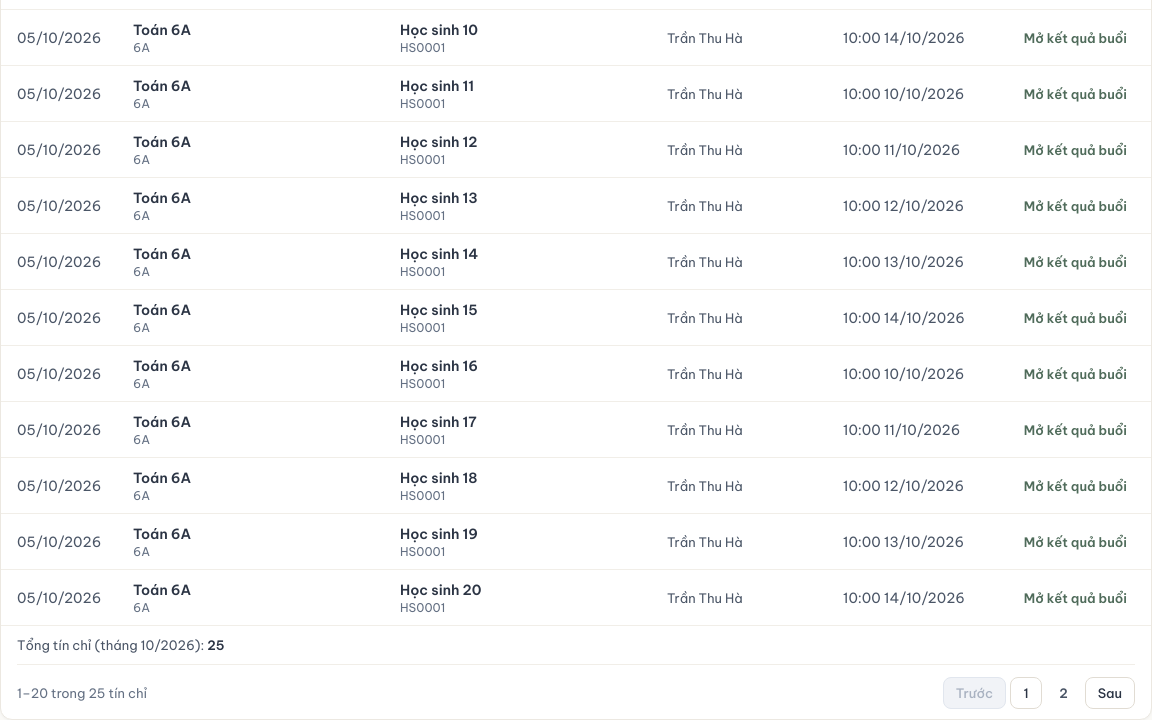
Scenario: GradingCreditListPage pagination › shows 20 rows per page and returns to page 1 when a filter changes
(page scrolled)
Check: the navigation bar named "Phân trang tín chỉ chấm bài" shows "1–20 trong 25 tín chỉ", box [17,677,1135,709]
Click the button "Sau" at coordinates (1110, 693), box [1085,677,1135,709]
(page scrolled)
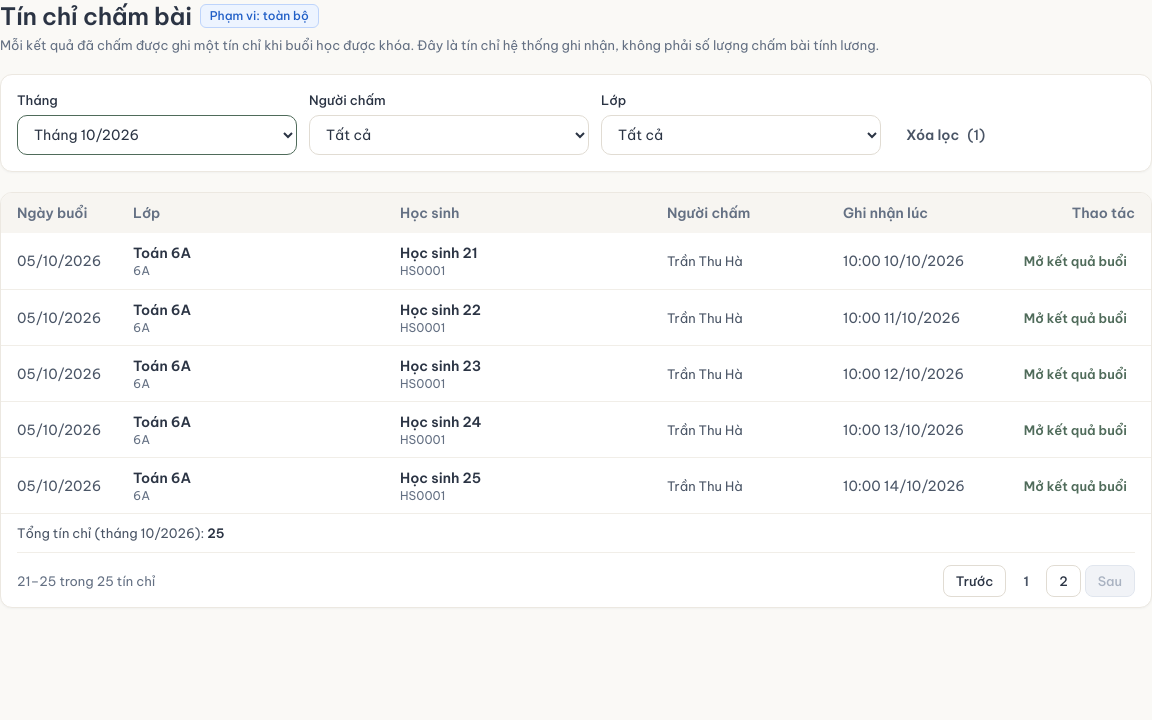
Check: the navigation bar named "Phân trang tín chỉ chấm bài" shows "21–25 trong 25 tín chỉ", box [17,565,1135,597]
Select "Tất cả" in the dropdown with test id "desktop-credit-month" at coordinates (157, 135), box [17,115,297,155]
(page scrolled)
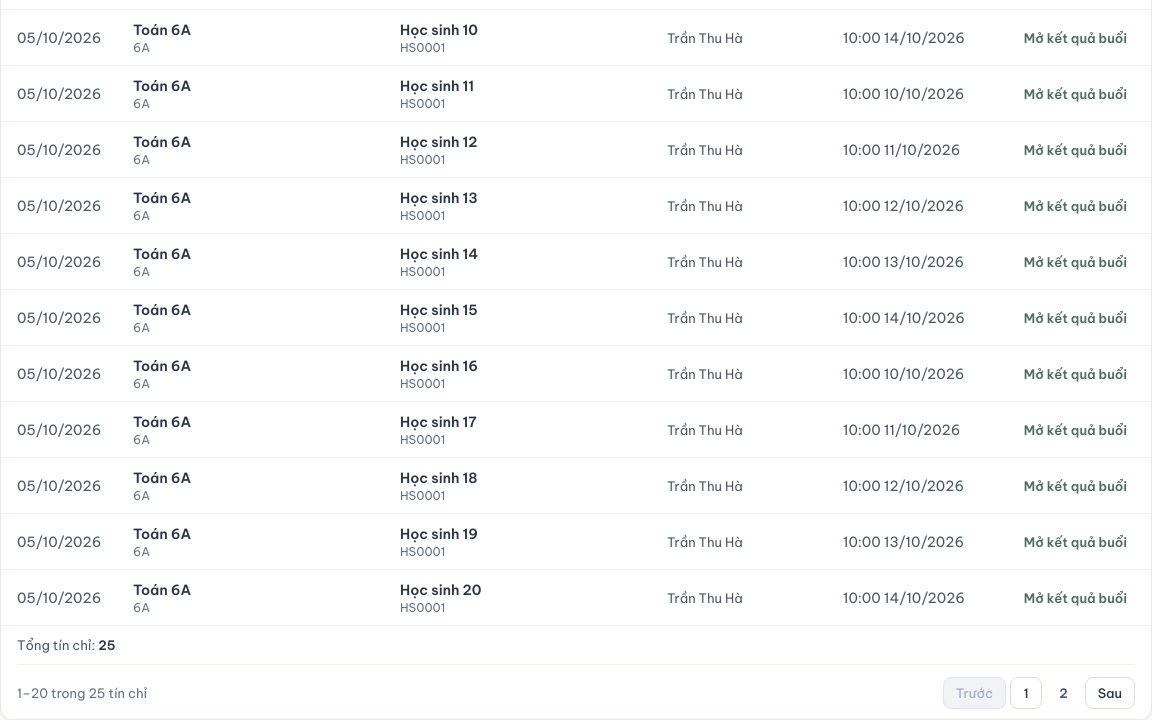
Check: the navigation bar named "Phân trang tín chỉ chấm bài" shows "1–20 trong 25 tín chỉ", box [17,677,1135,709]
